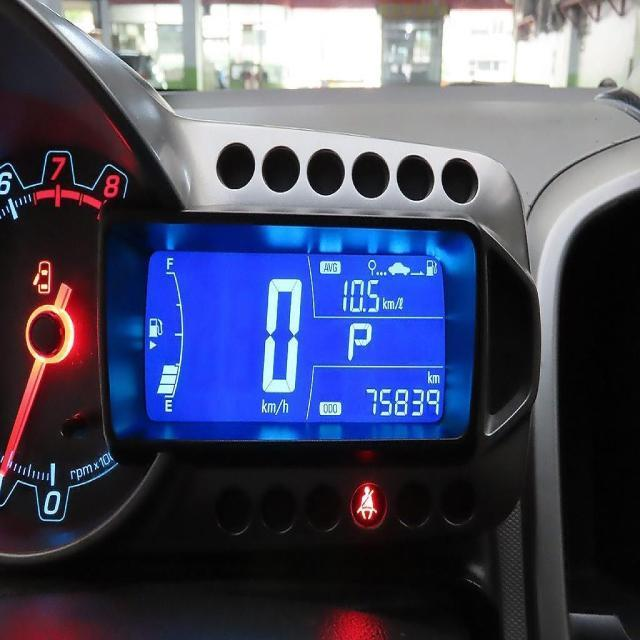Doors: (31, 259, 50, 293)
